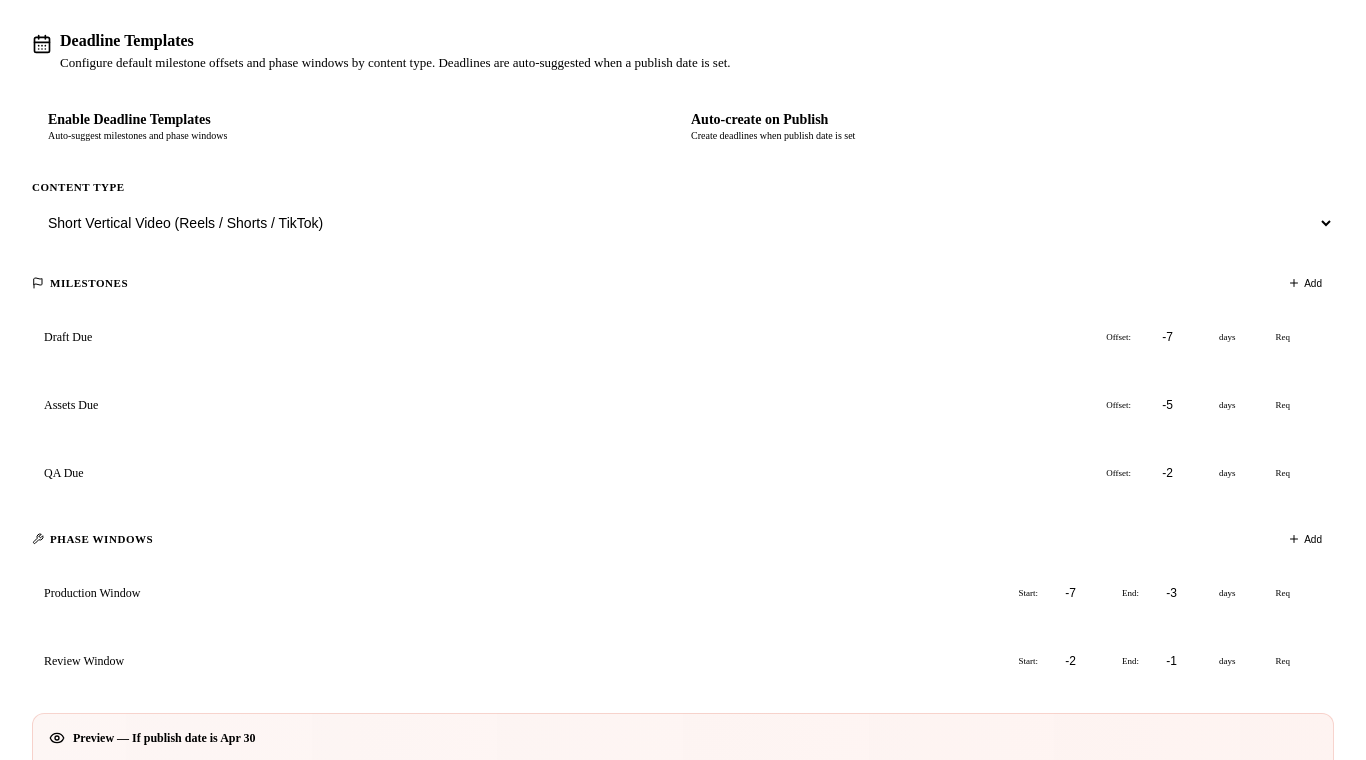
Test case: TabCalendarComponent interactions › should add milestone via DOM click
Click the button with class "add-milestone-btn".
click(1305, 283)  # box [1276,269,1334,297]
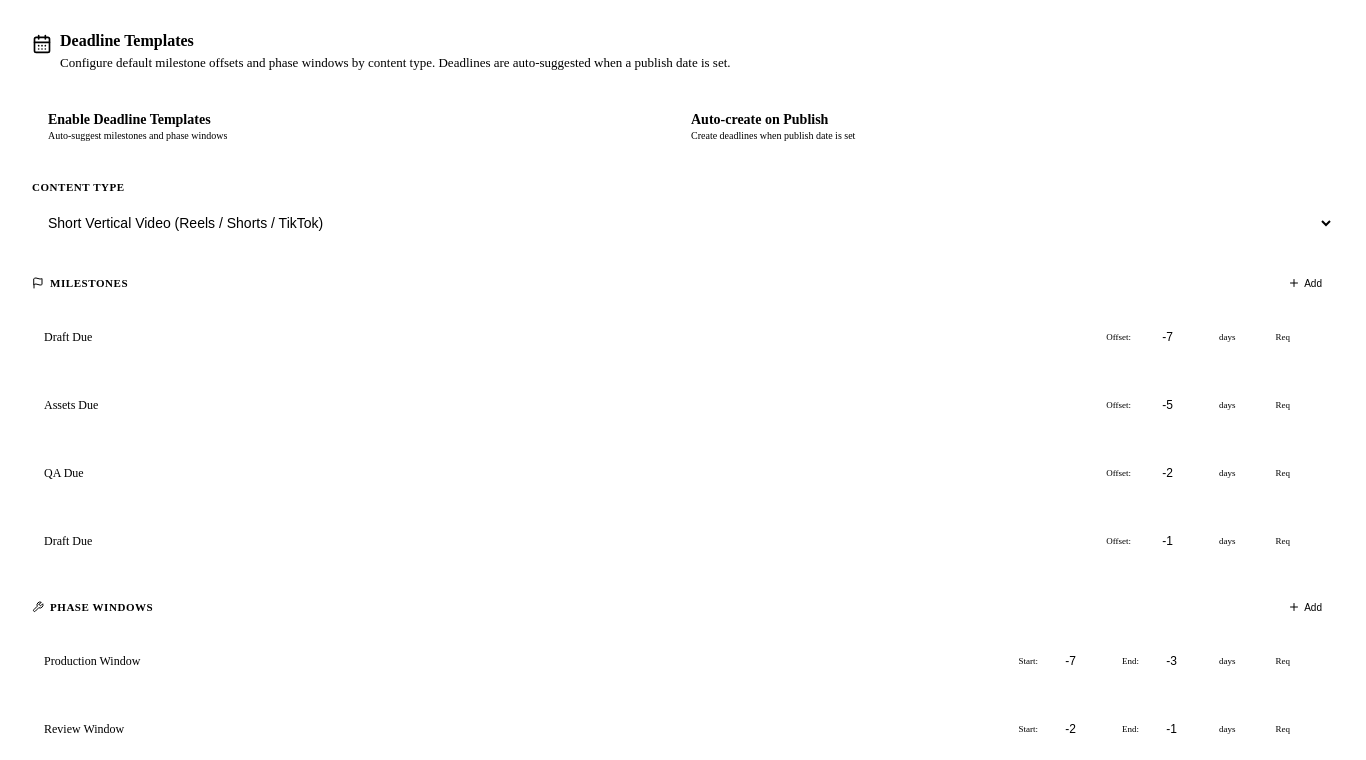
Now the number of elements with class "milestone-row" is 4, box [44,321,1290,353]; [44,389,1290,421]; [44,457,1290,489]; [44,525,1290,557]
